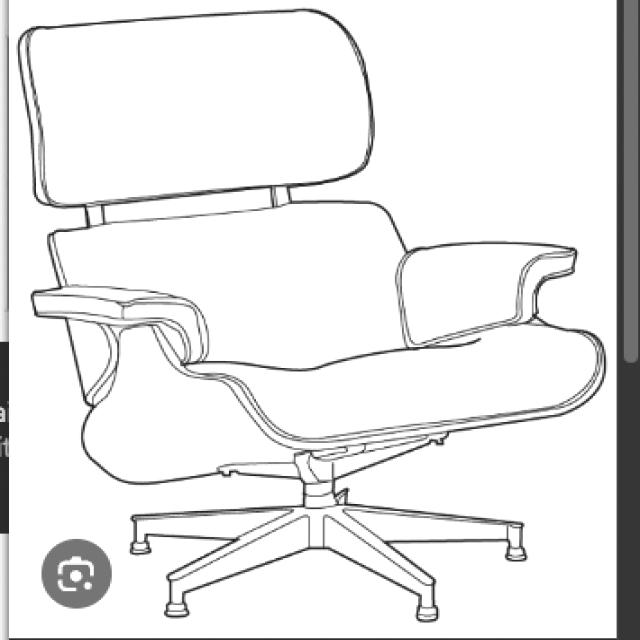Backrest: (42, 192, 406, 371)
Eames_base: (122, 497, 541, 632)
Eames_lounge: (386, 239, 583, 352), (28, 278, 220, 376)
Headrest: (9, 3, 379, 216)
Seat: (74, 315, 612, 490)
